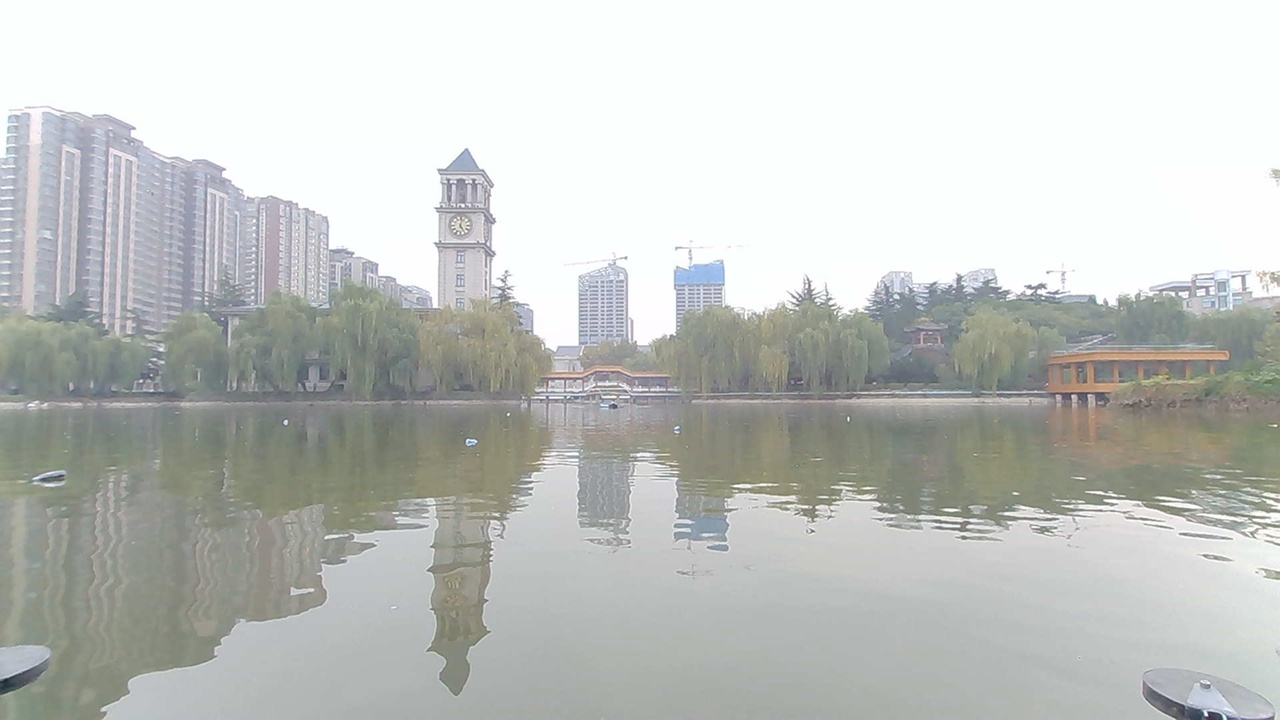bottle: (21, 464, 94, 497), (660, 410, 694, 437), (274, 410, 312, 434), (838, 404, 868, 430), (454, 435, 491, 456), (495, 402, 524, 424)
